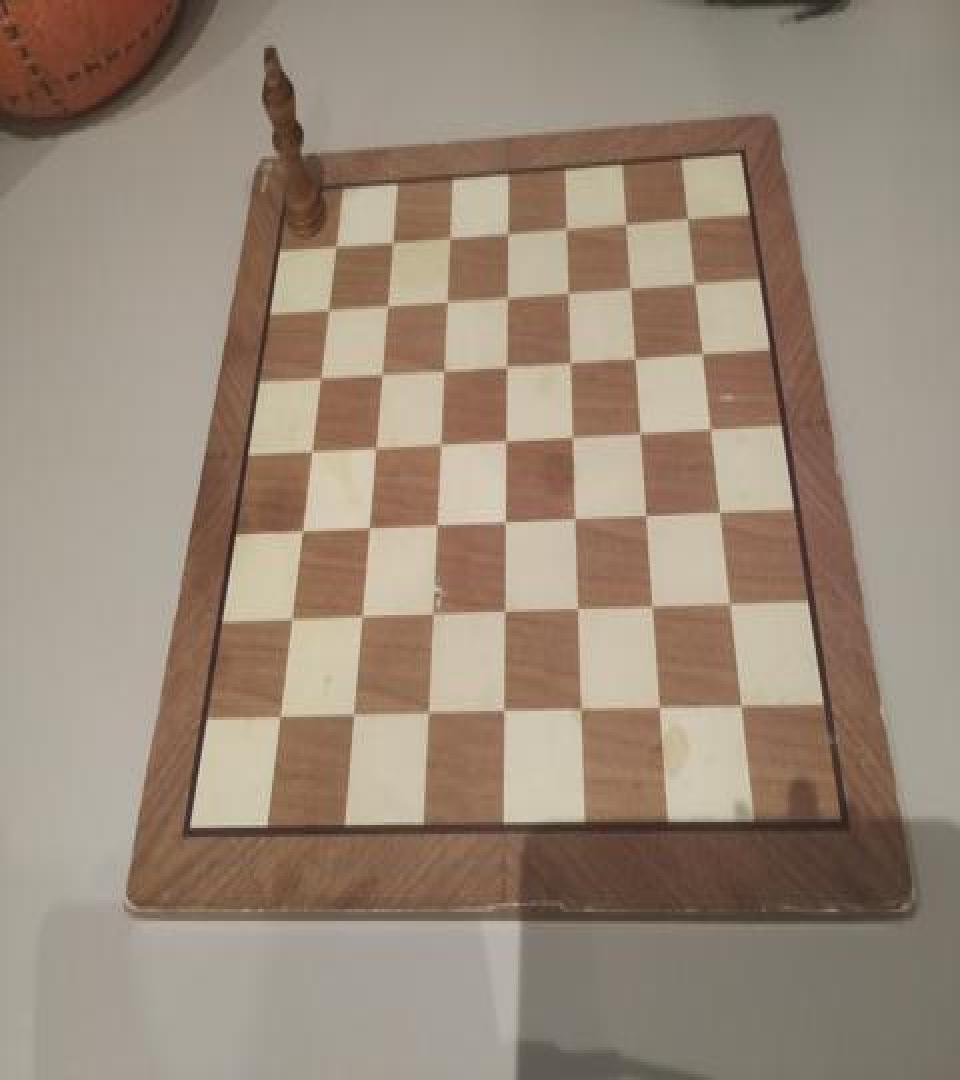xcorner: (266, 705, 286, 735), (418, 702, 438, 732), (495, 700, 515, 730), (574, 699, 594, 729), (735, 696, 755, 726), (277, 604, 297, 634), (349, 603, 369, 633), (496, 600, 516, 630), (571, 597, 591, 627), (724, 594, 744, 624), (288, 514, 308, 544), (357, 513, 377, 543), (426, 510, 446, 540), (497, 508, 517, 538), (568, 506, 588, 536), (640, 502, 660, 532), (713, 501, 733, 531), (298, 434, 318, 464), (364, 430, 384, 460), (430, 428, 450, 458), (497, 424, 517, 454), (565, 422, 585, 452), (634, 418, 654, 448), (704, 416, 724, 446), (307, 358, 327, 388), (370, 356, 390, 386), (433, 352, 453, 382), (498, 348, 518, 378), (563, 345, 583, 375), (629, 342, 649, 372), (695, 339, 715, 369), (315, 290, 335, 320), (376, 285, 396, 315), (437, 282, 457, 312), (498, 279, 518, 309), (561, 276, 581, 306), (624, 272, 644, 302), (687, 268, 707, 298), (323, 225, 343, 255), (381, 222, 401, 252), (439, 219, 459, 249), (499, 214, 519, 244), (559, 212, 579, 242), (619, 207, 639, 237), (680, 204, 700, 234), (341, 704, 361, 733), (654, 698, 674, 727), (422, 602, 442, 631), (647, 596, 667, 625)
